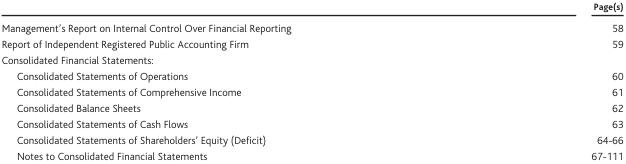table: (0, 0, 622, 161)
table column: (0, 0, 440, 161), (440, 0, 622, 161)
table column header: (0, 0, 622, 16)
table projected row header: (0, 51, 622, 67)
table row: (0, 16, 622, 35), (0, 0, 622, 16), (0, 35, 622, 51), (0, 51, 622, 67), (0, 67, 622, 83), (0, 83, 622, 99), (0, 99, 622, 115), (0, 115, 622, 131), (0, 131, 622, 147), (0, 147, 622, 161)
